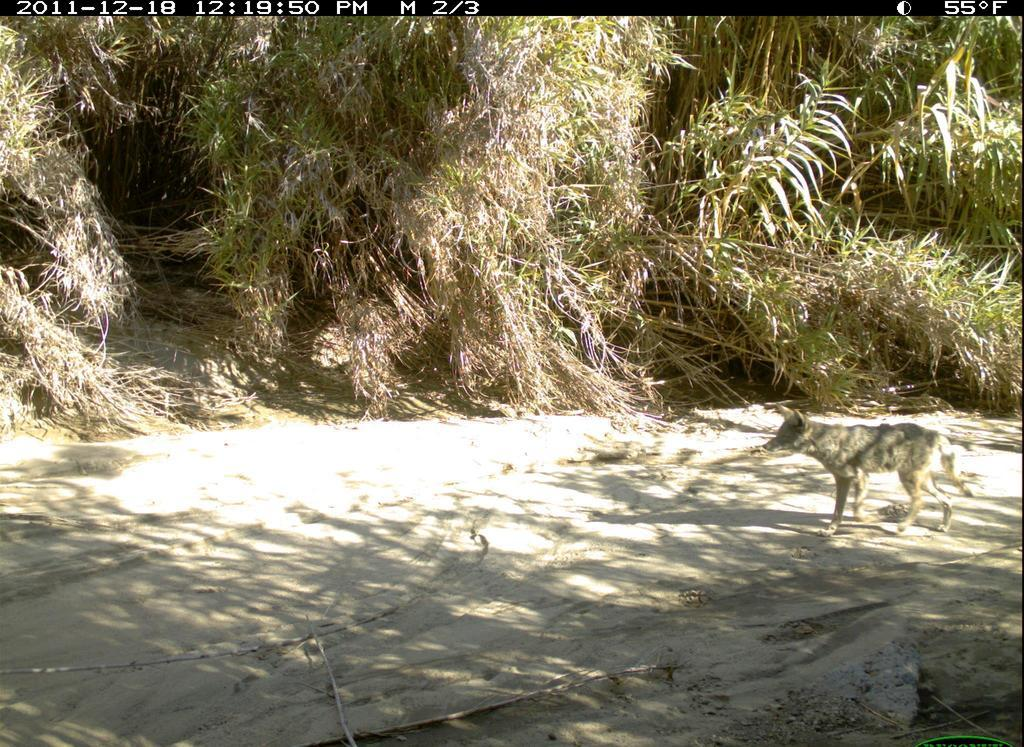coyote: (762, 397, 984, 537)
